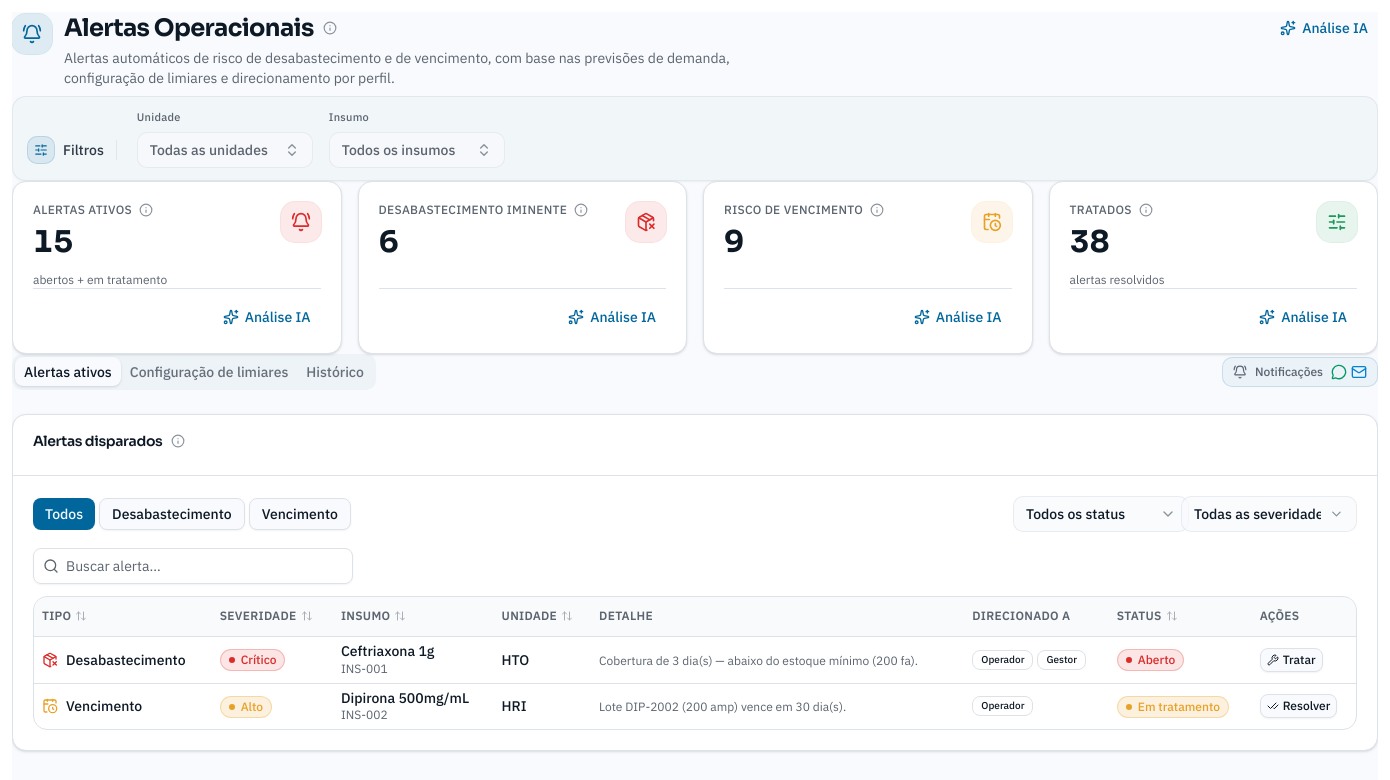
Scenario: AlertasPage › Operador vê os limiares somente leitura (sem salvar)
Click the tab "Configuração de limiares": (209, 372) x1=121 y1=357 x2=297 y2=386
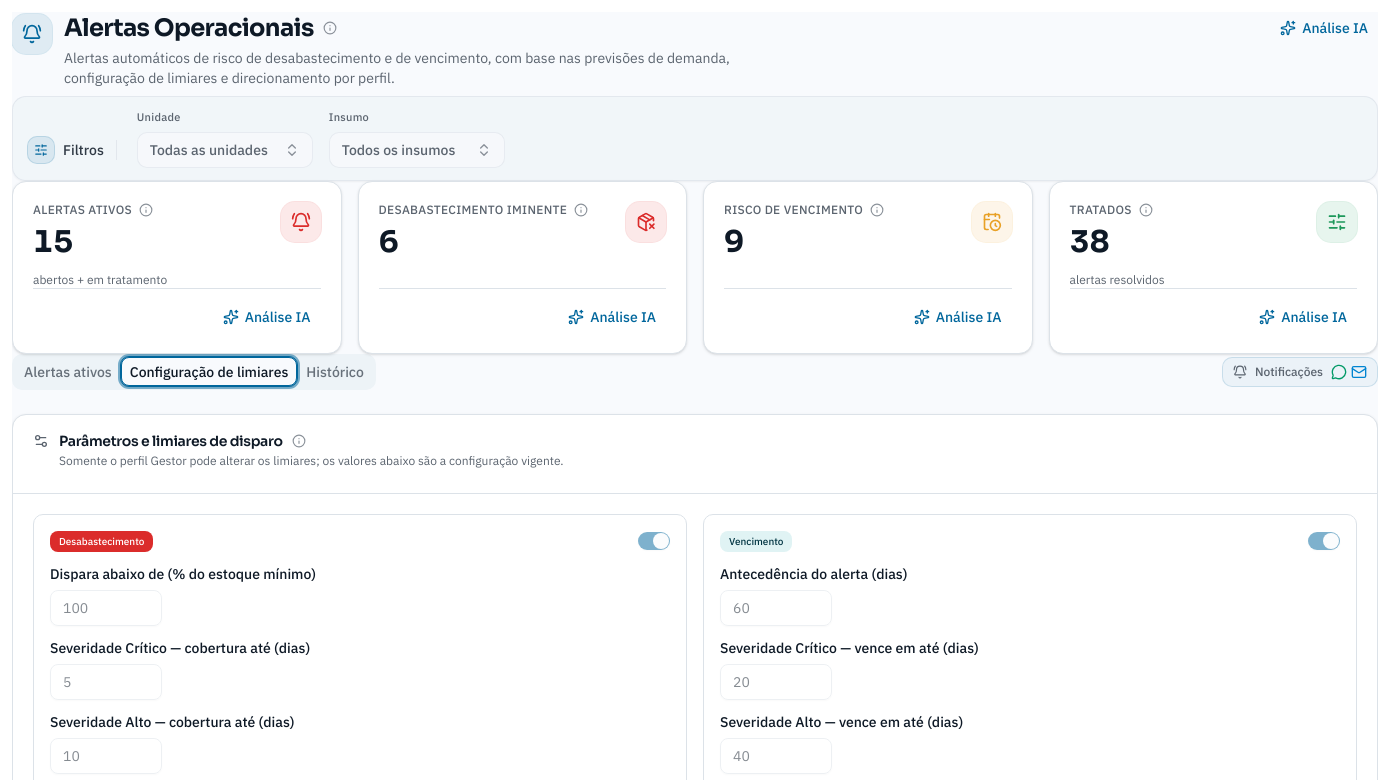
Check: the number field labelled "Dispara abaixo de (% do estoque mínimo)" is disabled, box x1=50 y1=590 x2=162 y2=626
